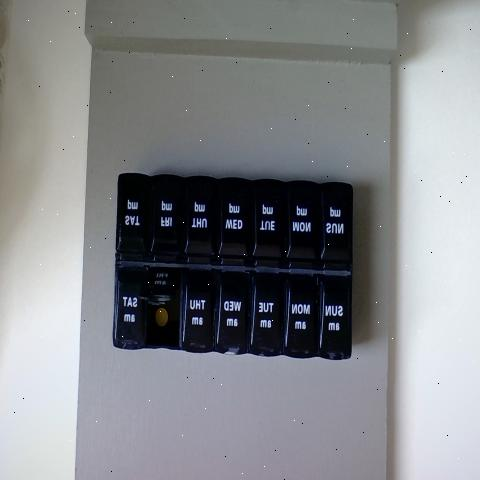FRI-pm: (152, 178, 187, 264)
MON-am: (290, 276, 325, 356)
MON-pm: (290, 184, 324, 267)
Open: (142, 281, 182, 346)
Pill: (154, 306, 171, 328)
PillBox: (97, 134, 377, 376)
SAT-am: (116, 270, 153, 348)
SAT-pm: (119, 176, 155, 259)
SUN-am: (321, 276, 354, 362)
SUN-pm: (324, 184, 355, 272)
THU-am: (185, 271, 214, 350)
THU-pm: (184, 182, 220, 260)
TUE-am: (256, 276, 287, 357)
TUE-pm: (255, 183, 286, 264)
WED-am: (223, 271, 255, 353), (219, 187, 251, 267)
